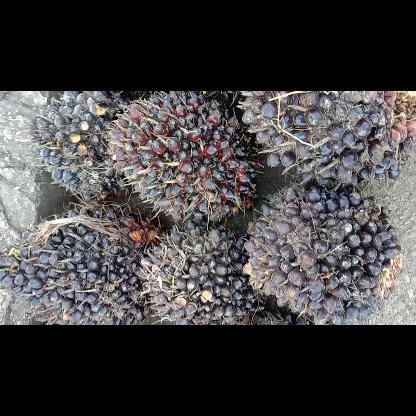TBS mentah: (240, 180, 408, 324), (104, 91, 263, 230), (0, 204, 168, 324), (236, 90, 416, 194), (136, 218, 270, 324), (30, 91, 140, 201)
